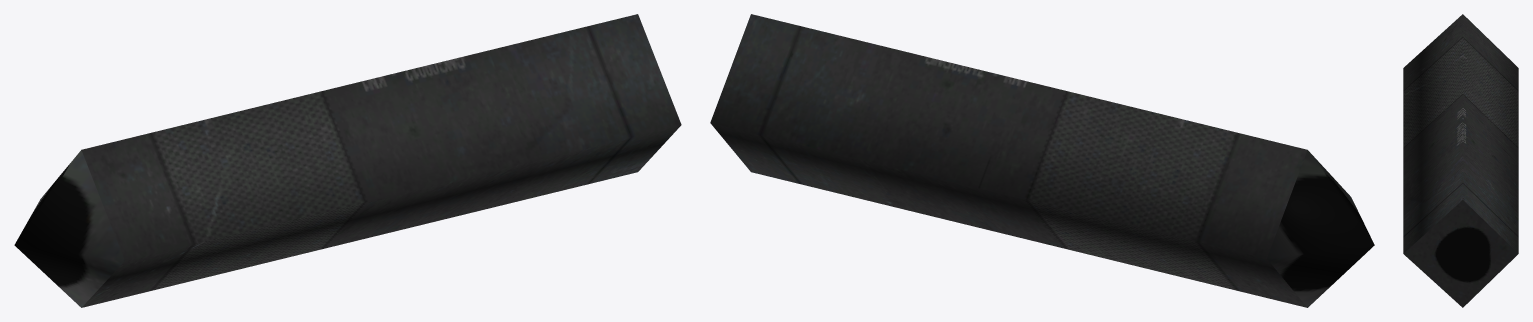
File: t6_attach_smg_silencer1_world_LOD1.obj
3 views of the same model, side by side, from view 1: azimuth 30°, elevation 25°; view 2: azimuth 150°, elevation 25°; view 3: azimuth 270°, elevation 25° (orthographic). The views are drawn at different scales.
Visible parts, largest first — view 1: mtl_t6_attach_smg_silencer1; view 2: mtl_t6_attach_smg_silencer1; view 3: mtl_t6_attach_smg_silencer1.
Part boxes in pixels (box(x1,y1,x2,y2)): mtl_t6_attach_smg_silencer1: box(14, 14, 681, 307); mtl_t6_attach_smg_silencer1: box(710, 14, 1374, 307); mtl_t6_attach_smg_silencer1: box(1403, 14, 1518, 307).
Size of the model in its own units: 18.81 by 4.56 by 4.41.
